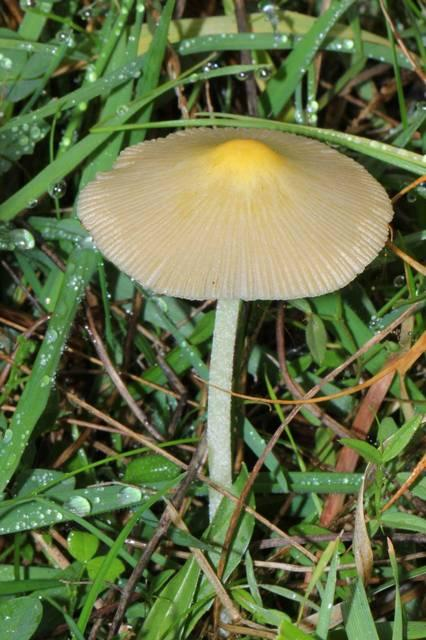edible_mushroom: (74, 124, 395, 526)
